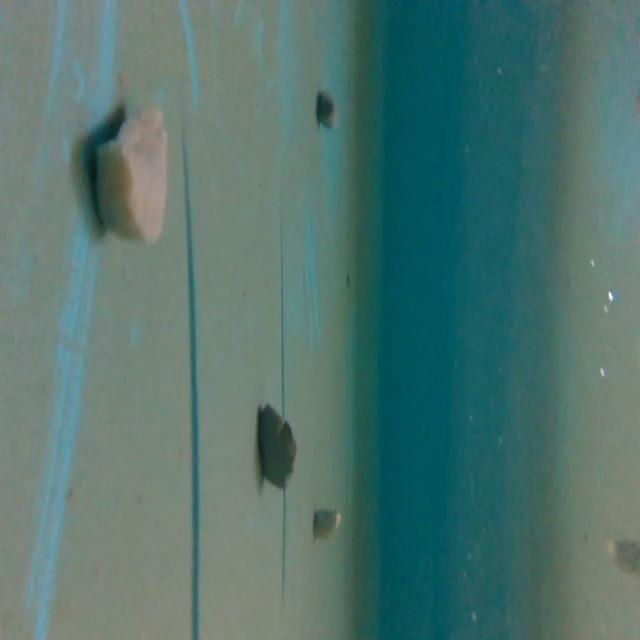rock: (86, 104, 176, 251), (256, 398, 298, 494), (312, 502, 342, 548), (313, 89, 336, 133)
